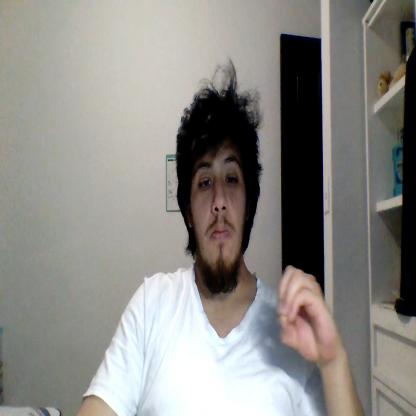O: (277, 265, 334, 361)
